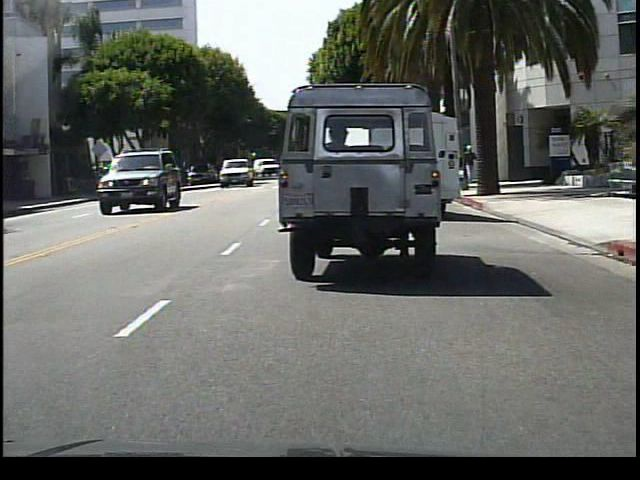person: (462, 144, 476, 189)
